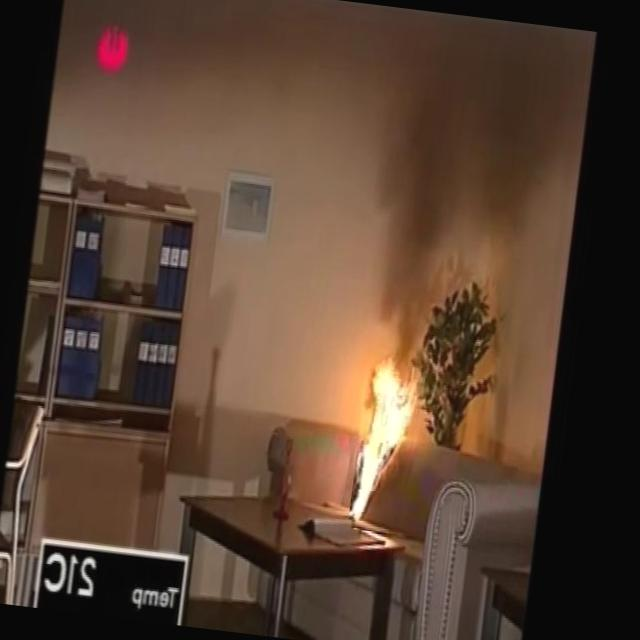fire: (329, 356, 424, 525)
